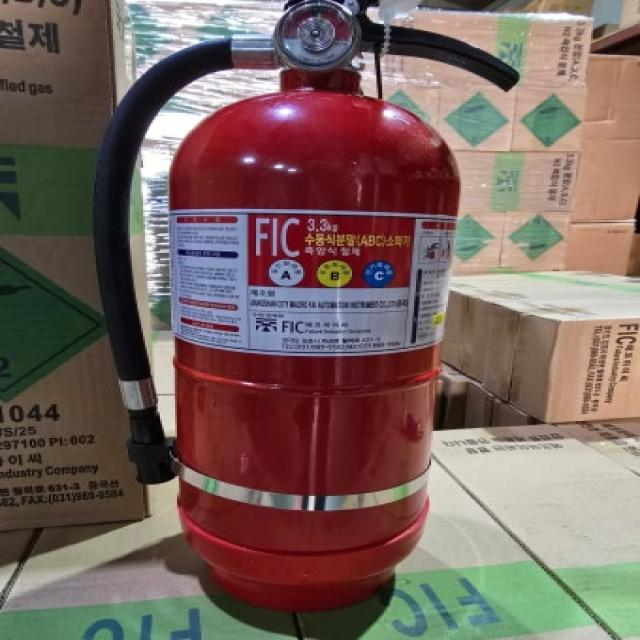pressure gauge: (275, 0, 358, 71)
